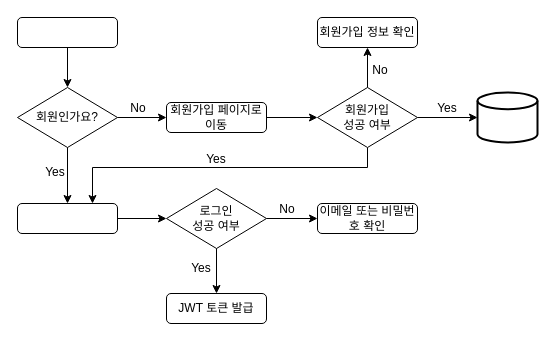
Image size: 556x341. Some labels were removed from this diagram. The shapes that lost their labels are listed below. From the top down, each one's centre as x and y in pixels, then its label:
the point at 67,32: start
the point at 507,117: 회원 저장
the point at 67,218: 로그인 페이지로 이동
